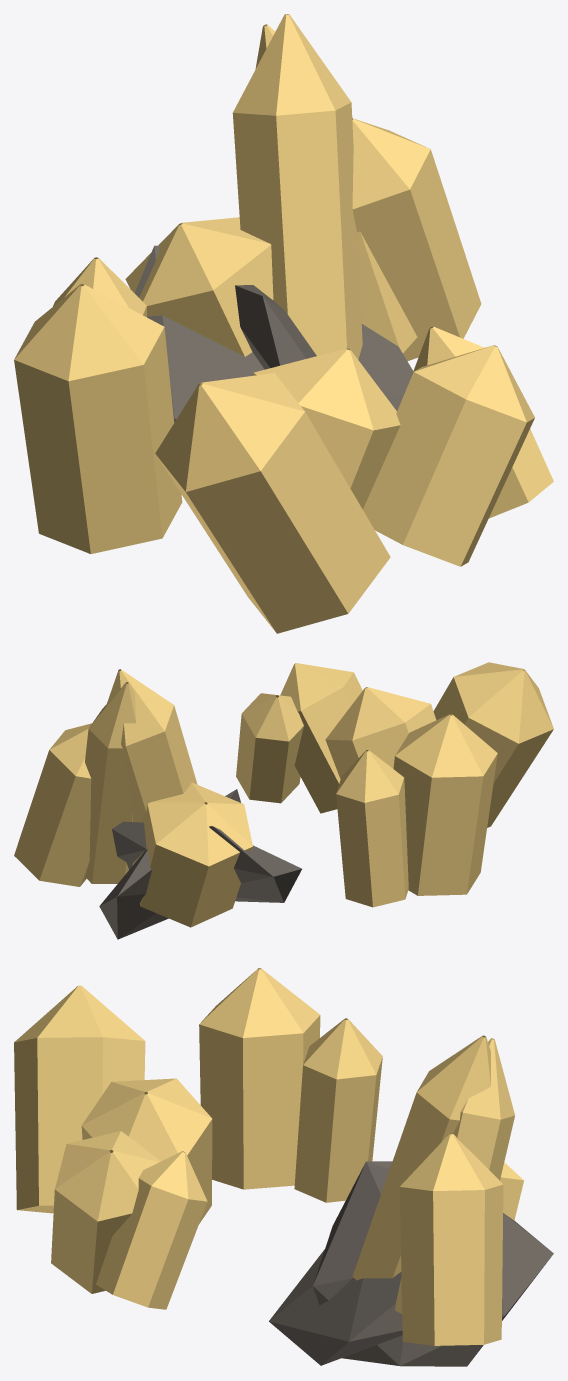
Rendered from ore1.glb.
The picture shows the model from 3 angles, top to bottom: view 1: azimuth 30°, elevation 25°; view 2: azimuth 150°, elevation 25°; view 3: azimuth 270°, elevation 25°; orthographic projection. The views are drawn at different scales.
Visible parts, largest first — view 1: Ore; view 2: Ore; view 3: Ore.
Boxes of the visible parts, x1=… form: Ore: x1=14, y1=14, x2=553, y2=633; Ore: x1=14, y1=662, x2=553, y2=939; Ore: x1=14, y1=968, x2=553, y2=1366.
Size of the model in its own units: 2.56 by 1.78 by 2.65.
